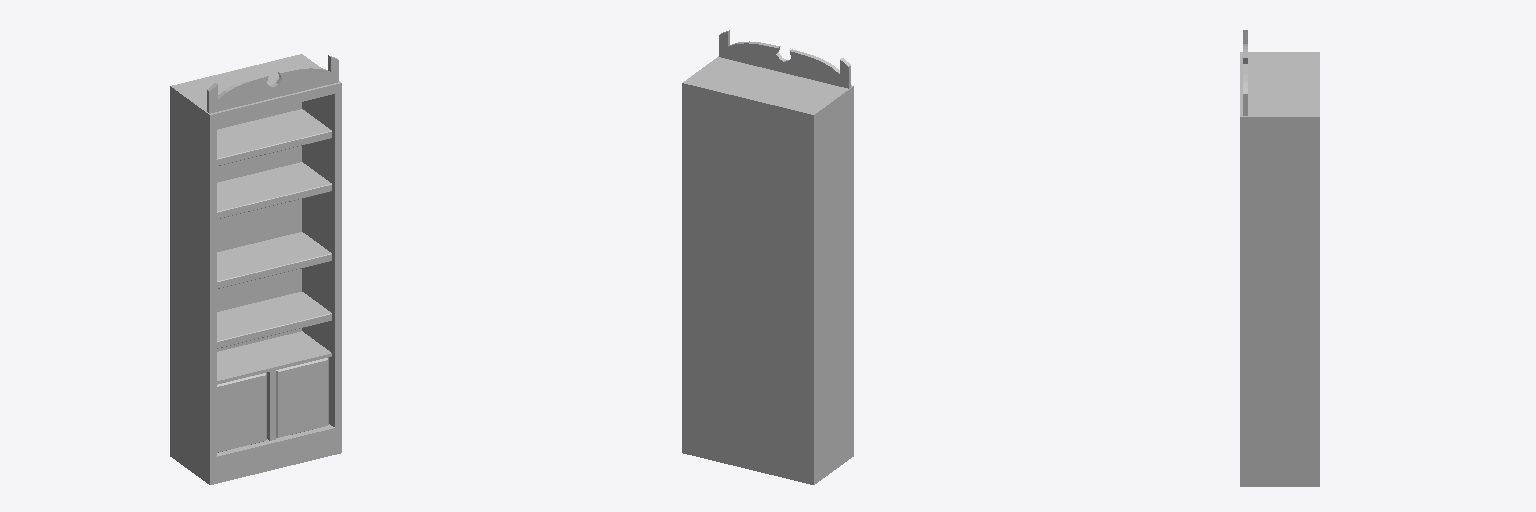
File: Librero.obj
The picture shows the model from 3 angles: view 1: azimuth 30°, elevation 25°; view 2: azimuth 150°, elevation 25°; view 3: azimuth 270°, elevation 25°; orthographic projection.
Visible parts, largest first — view 1: Librero.obj; view 2: Librero.obj; view 3: Librero.obj.
Boxes of the visible parts, box(x1,y1,x2,y2) form: Librero.obj: box(170, 54, 341, 484); Librero.obj: box(682, 30, 853, 484); Librero.obj: box(1240, 30, 1319, 486).
Size of the model in its own units: 0.6551 by 1.89 by 0.342.